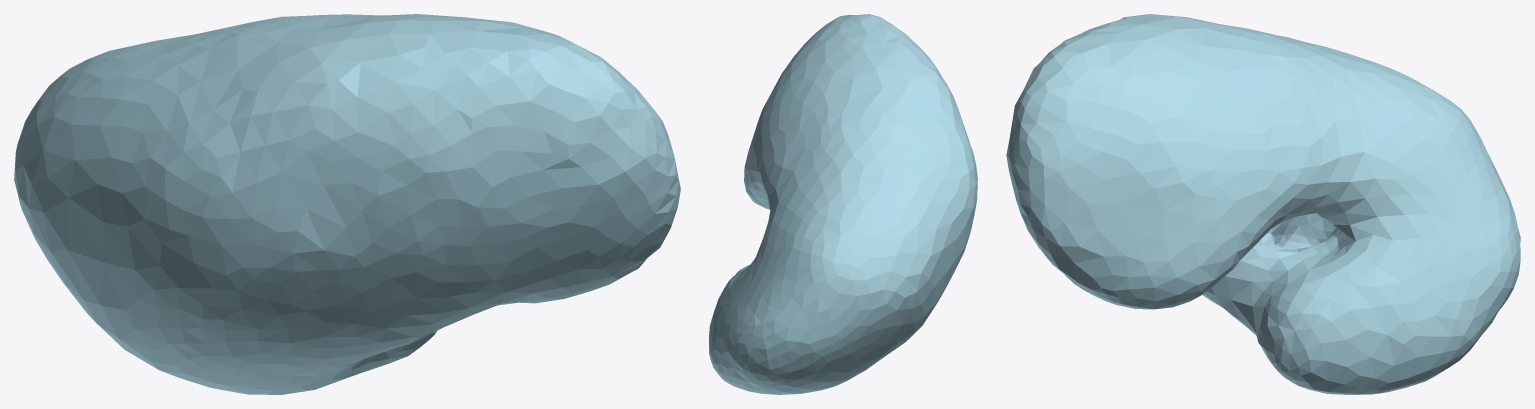
Rendered from rightkidney.obj.
3 renders of one model, left to right at view 1: azimuth 30°, elevation 25°; view 2: azimuth 150°, elevation 25°; view 3: azimuth 270°, elevation 25°, orthographic. The views are drawn at different scales.
Parts seen in each view (by area): view 1: grp1; view 2: grp1; view 3: grp1.
Boxes of the visible parts, x1=… form: grp1: x1=14, y1=14, x2=680, y2=394; grp1: x1=709, y1=14, x2=977, y2=394; grp1: x1=1006, y1=14, x2=1520, y2=394.
Bounding box in the file's own units: 78.89 × 79.88 × 108.
